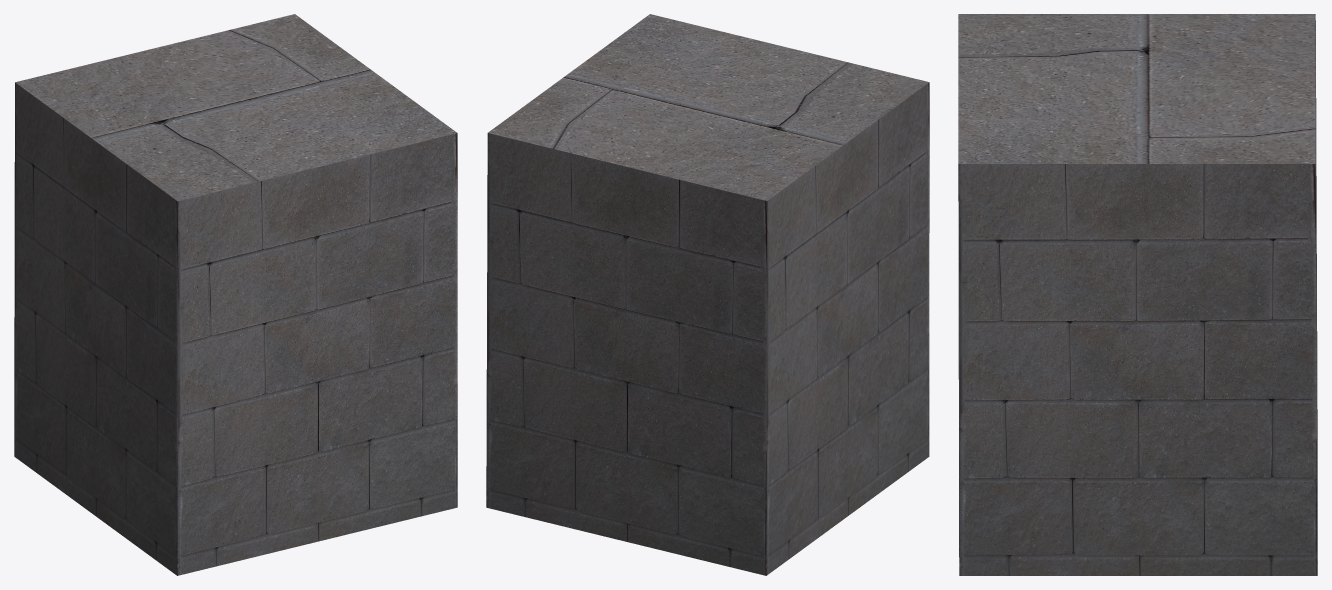
The model's file is BrickWall2.glb.
3 renders of one model, left to right at view 1: azimuth 30°, elevation 25°; view 2: azimuth 150°, elevation 25°; view 3: azimuth 270°, elevation 25°, orthographic. The views are drawn at different scales.
Visible parts, largest first — view 1: Cube; view 2: Cube; view 3: Cube.
Part boxes in pixels (<box>): Cube: <box>14,14,457,575</box>; Cube: <box>486,14,929,575</box>; Cube: <box>958,14,1317,575</box>.
Size of the model in its own units: 2.01 by 2.57 by 2.03.
Materials: 1 (1 with a texture image).
